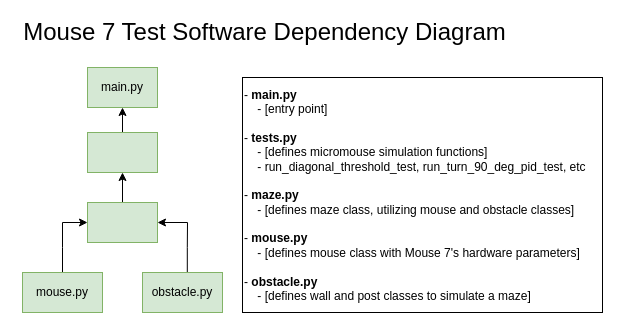
Image size: 620x330. Some labels were removed from this diagram. Here are the shapes that lost their labels. From the top down, the box of each, then its label:
(86, 132, 158, 172): tests.py
(86, 202, 158, 242): maze.py
